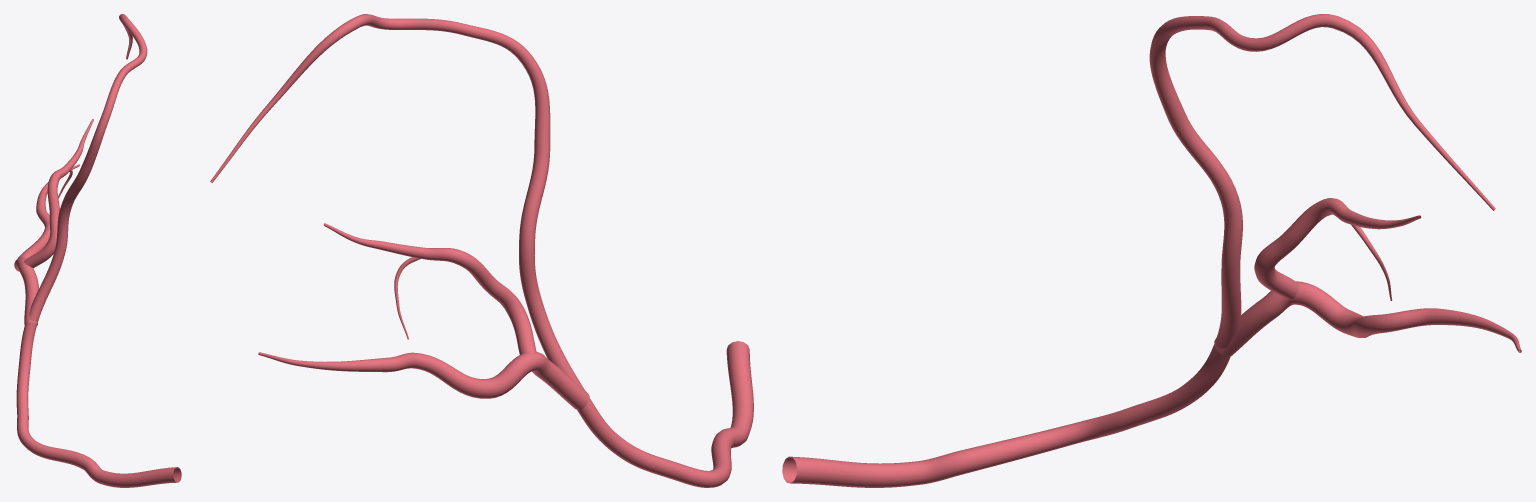
3 views of the same model, side by side, from view 1: azimuth 30°, elevation 25°; view 2: azimuth 150°, elevation 25°; view 3: azimuth 270°, elevation 25° (orthographic). The views are drawn at different scales.
Parts seen in each view (by area): view 1: ZA_2876ac27e6ac0f12; view 2: ZA_2876ac27e6ac0f12; view 3: ZA_2876ac27e6ac0f12.
Part boxes in pixels (left/top/right/bottom): ZA_2876ac27e6ac0f12: left=14, top=14, right=181, bottom=487; ZA_2876ac27e6ac0f12: left=210, top=14, right=753, bottom=487; ZA_2876ac27e6ac0f12: left=782, top=14, right=1521, bottom=487.
Bounding box in the file's own units: 0.0265 × 0.0382 × 0.0435.
